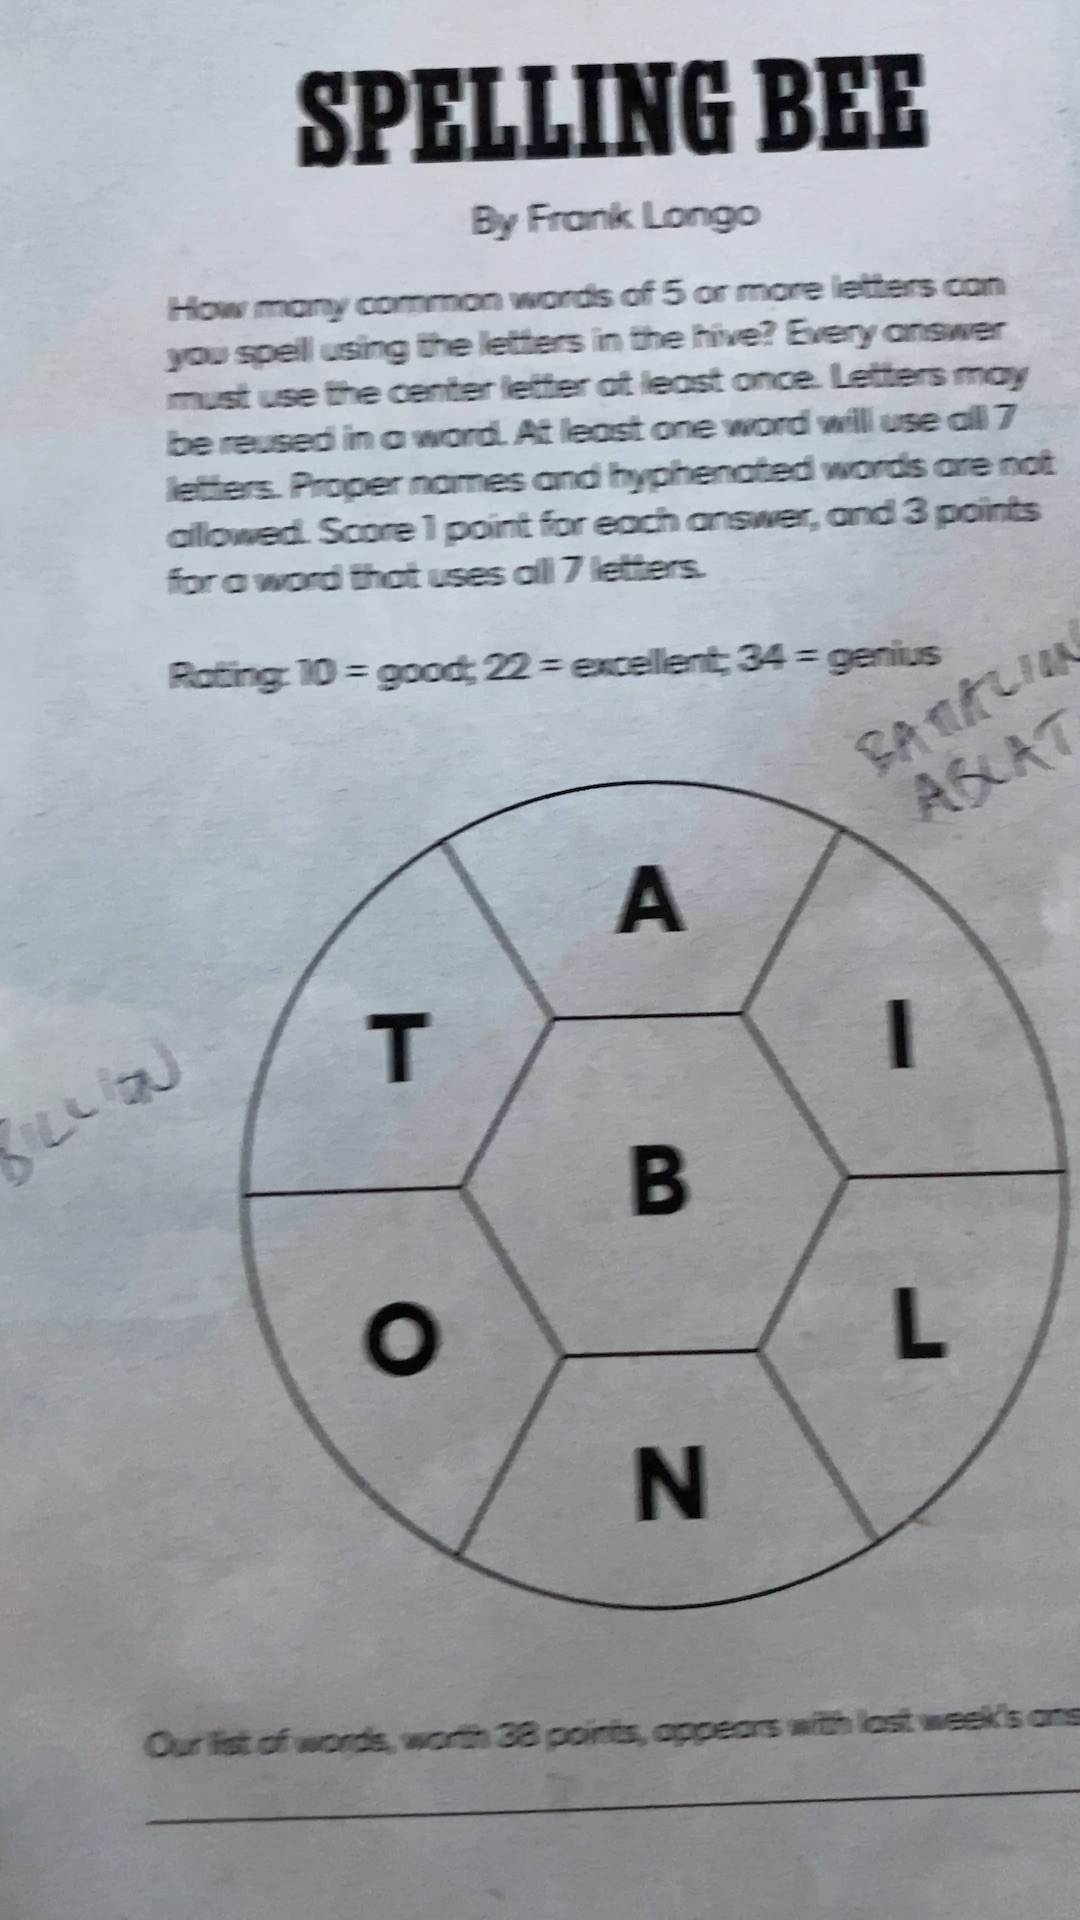Board: (214, 767, 1076, 1629)
